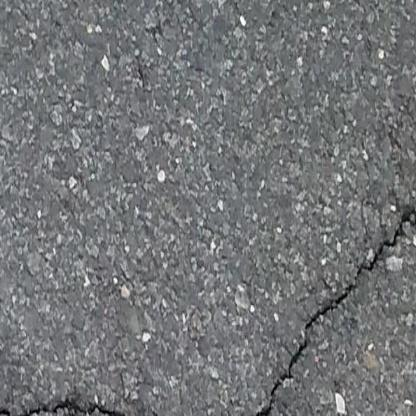Cracks: (215, 208, 416, 416), (0, 394, 143, 416)
